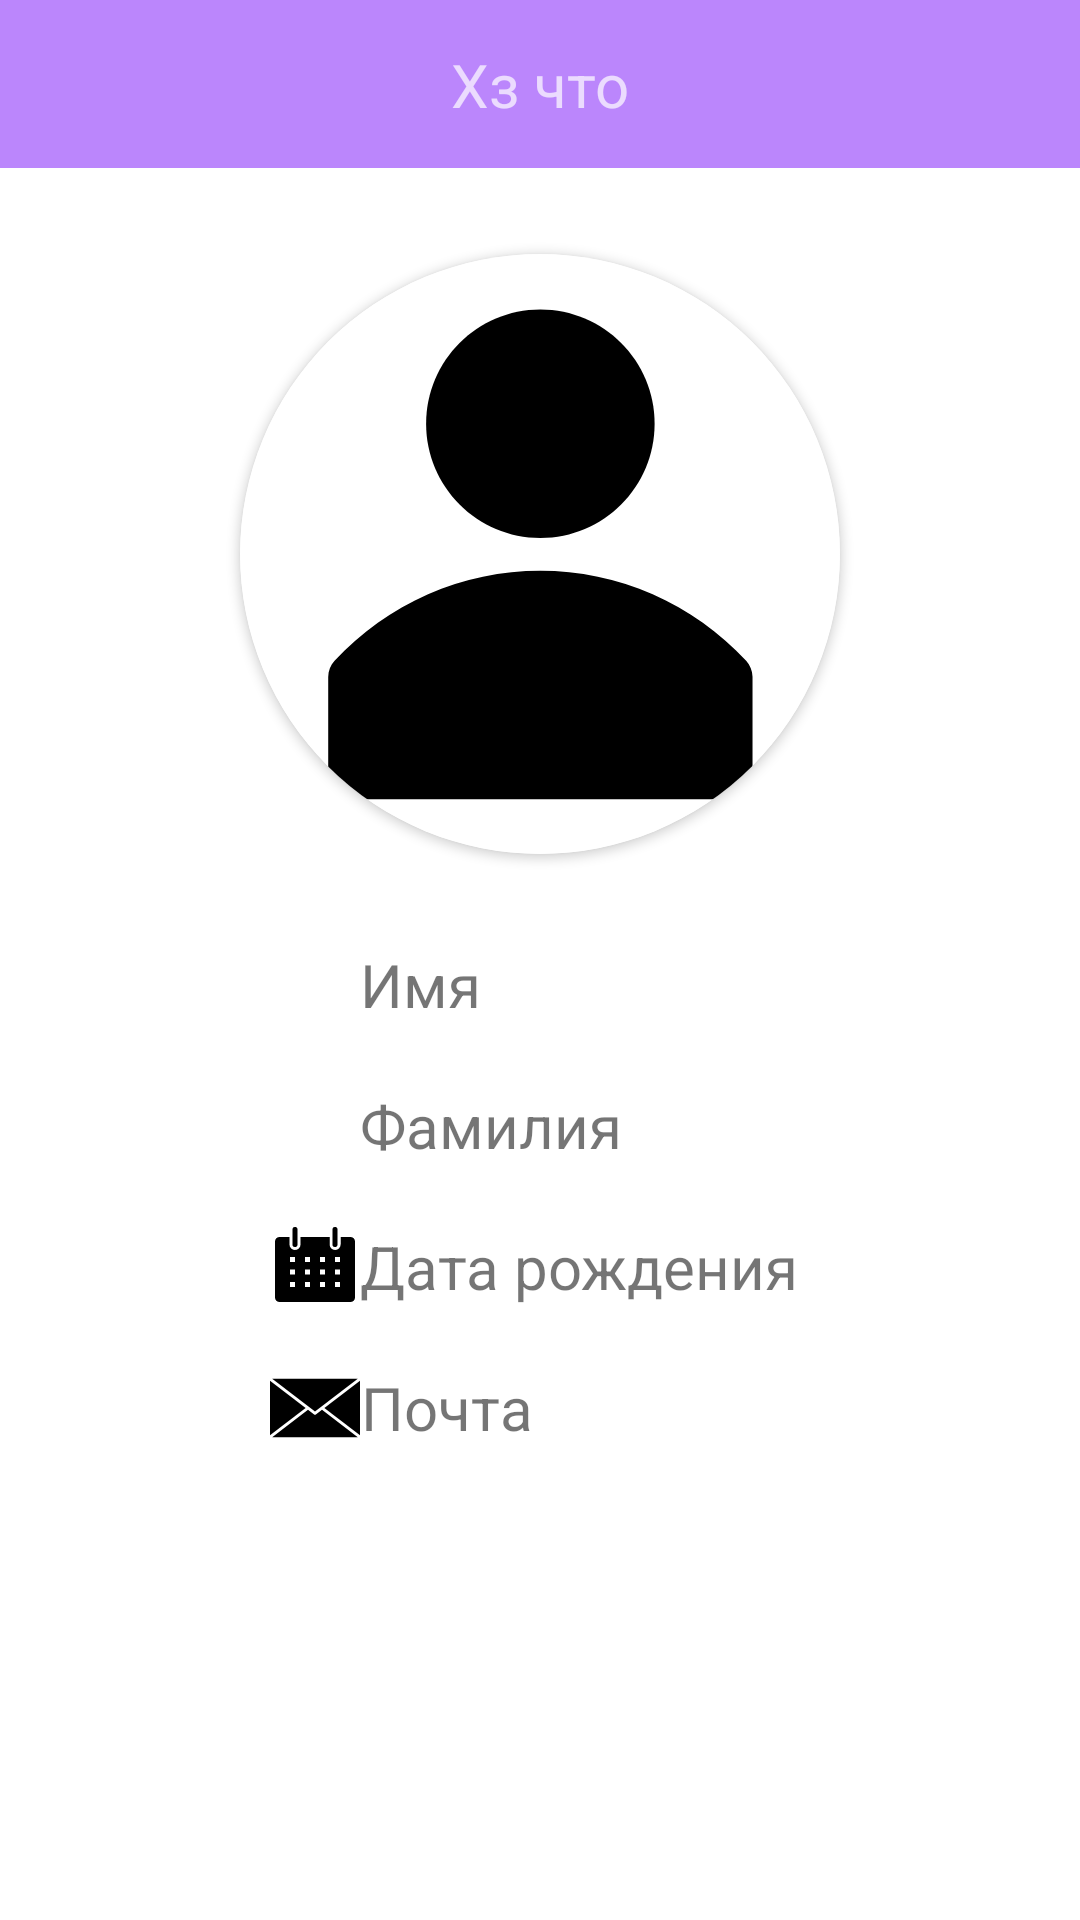

Where icons sit on this 1080 x 1920 app screen, as box(x1, y1, x2, y2):
calendar: box(275, 1227, 355, 1302)
email: box(270, 1378, 360, 1438)
